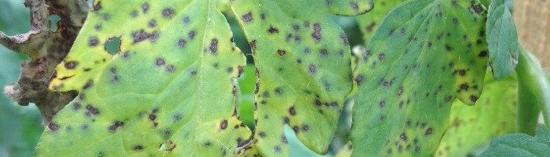Tomato Septoria leaf spot: (31, 0, 366, 157), (353, 0, 526, 157)
